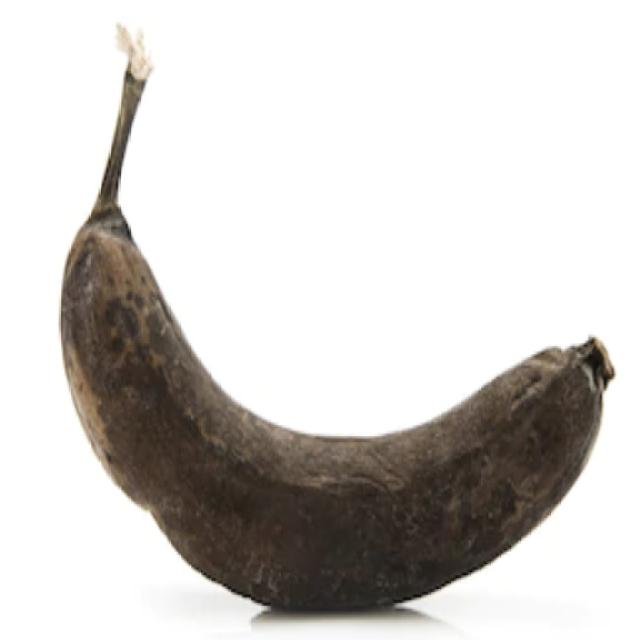rotten-banana: (57, 19, 616, 614)
